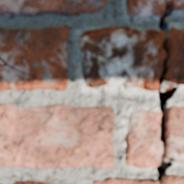brick: (0, 105, 114, 168), (0, 27, 68, 91), (0, 0, 106, 15), (17, 182, 36, 183)
broken_brick: (80, 27, 167, 92), (125, 108, 162, 169), (167, 27, 183, 86), (168, 105, 183, 163), (126, 0, 164, 18), (90, 178, 158, 183), (162, 174, 183, 183), (167, 0, 183, 3), (174, 7, 183, 11)
crack: (156, 0, 183, 183)
